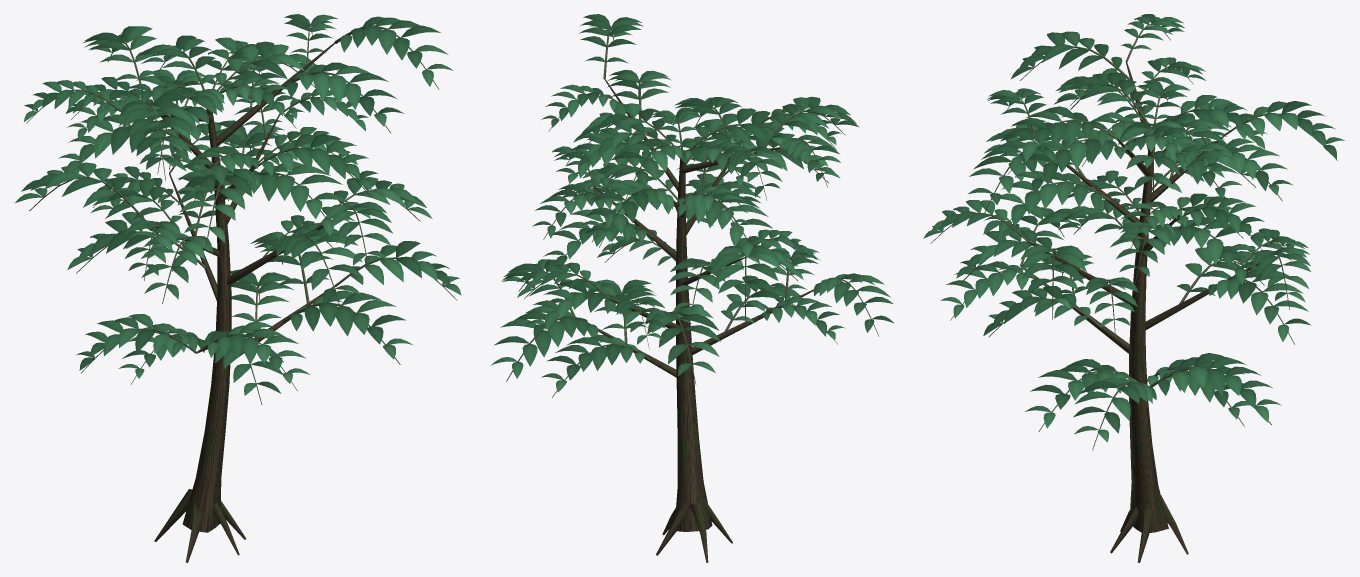
File: Young Shelfwood.glb
The picture shows the model from 3 angles, left to right: view 1: azimuth 30°, elevation 25°; view 2: azimuth 150°, elevation 25°; view 3: azimuth 270°, elevation 25°; orthographic projection. The views are drawn at different scales.
Parts seen in each view (by area): view 1: Young Shelfwood; view 2: Young Shelfwood; view 3: Young Shelfwood.
Boxes of the visible parts, x1,y1,x2,y2 form: Young Shelfwood: (15, 14, 461, 562); Young Shelfwood: (490, 14, 894, 562); Young Shelfwood: (923, 14, 1344, 562).
Size of the model in its own units: 4.75 by 5.74 by 4.45.
3 materials, 1 textured.
